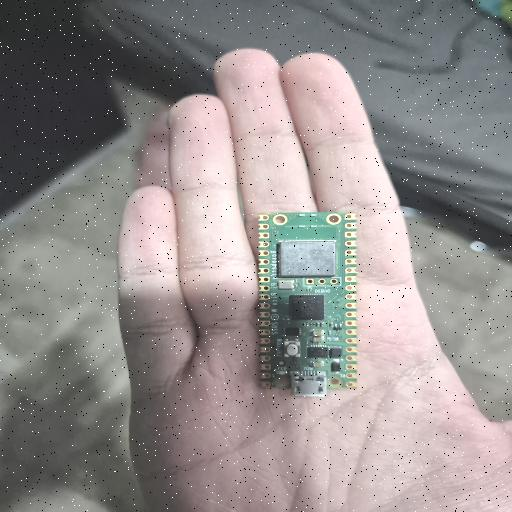raspberry-pi-pico-w: (257, 211, 357, 397)
